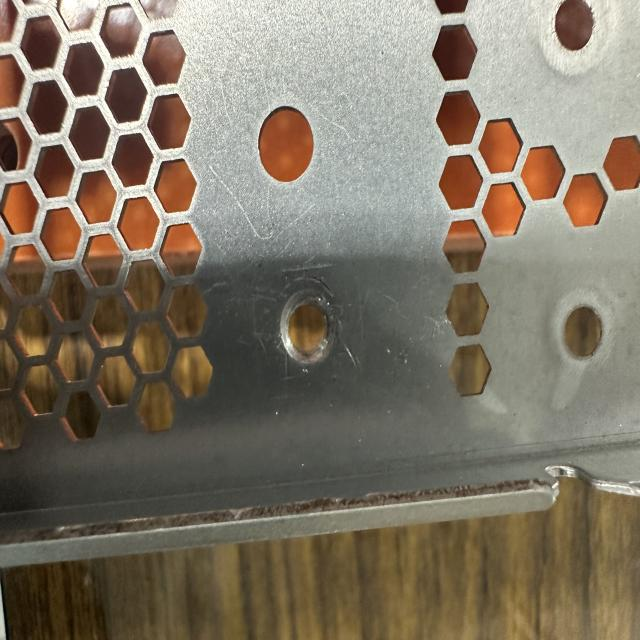Missing screw: (271, 282, 343, 381)
